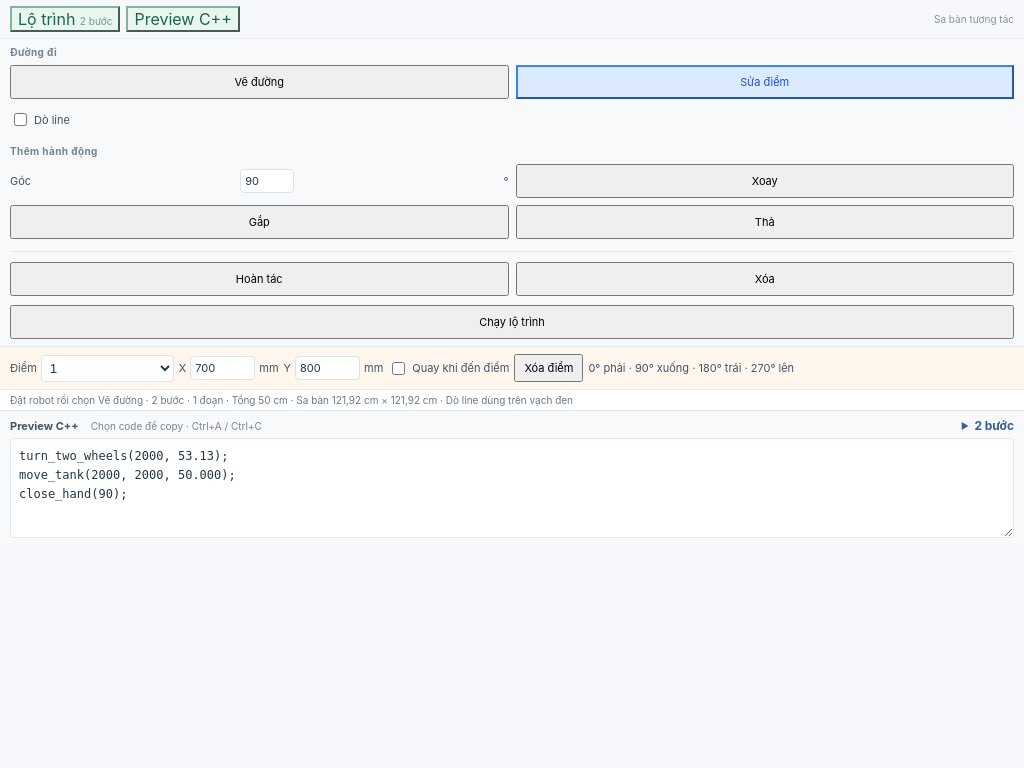
Test: measures the draft and updates segment lengths after drawing, undo and point edits
The width and height of the screenshot is (1024, 768).
Earlier steps of the test are not shown.
Replace the text in the number field named "Tọa độ Y" with "400" at (328, 368), box [295, 356, 360, 380]
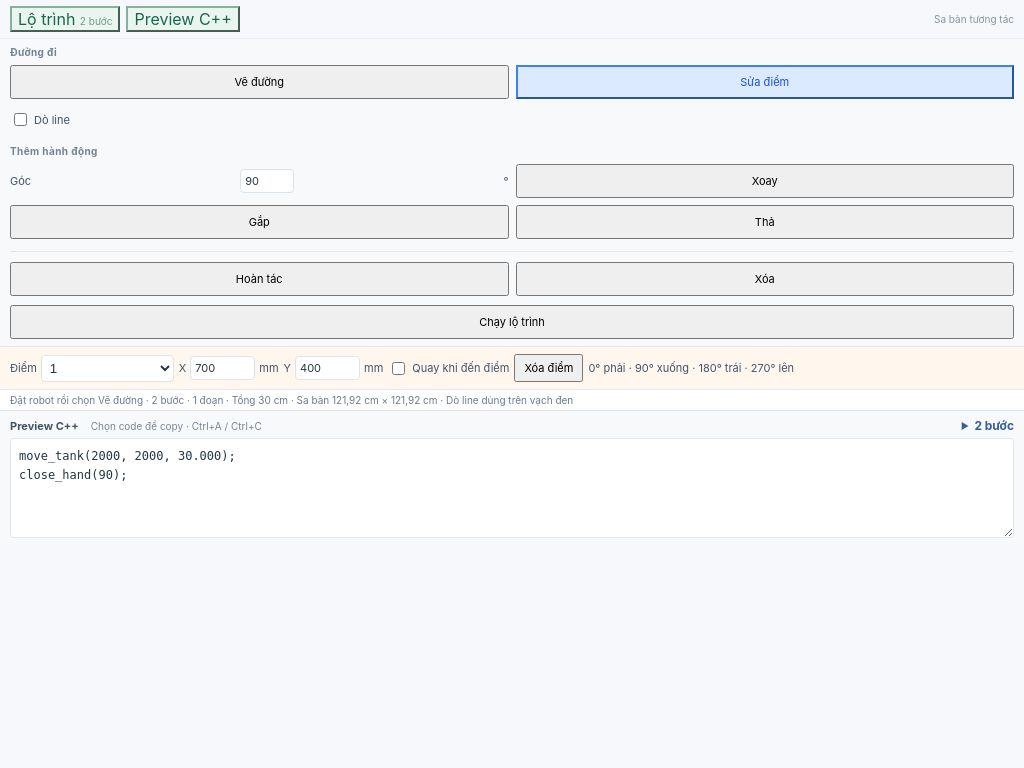
Expected: the text "1 đoạn · Tổng 30 cm" is shown, [0, 390, 1023, 410]
